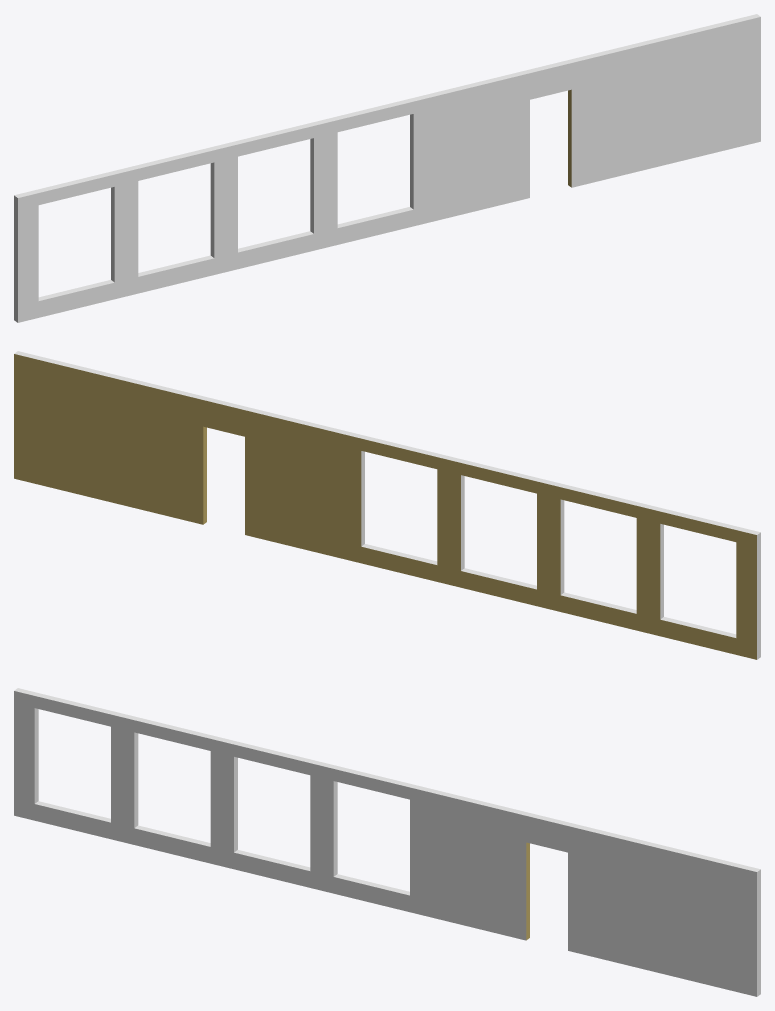
File: Wall 4.FBX
The picture shows the model from 3 angles, top to bottom: view 1: azimuth 30°, elevation 25°; view 2: azimuth 150°, elevation 25°; view 3: azimuth 330°, elevation 25°; orthographic projection.
Parts seen in each view (by area): view 1: Wall 4; view 2: Wall 4; view 3: Wall 4.
Boxes of the visible parts, x1,y1,x2,y2 form: Wall 4: (14,14,760,322); Wall 4: (14,351,760,659); Wall 4: (14,688,760,996).
Bounding box in the file's own units: 1698 × 272 × 15.43.
2 materials, 2 textured.
